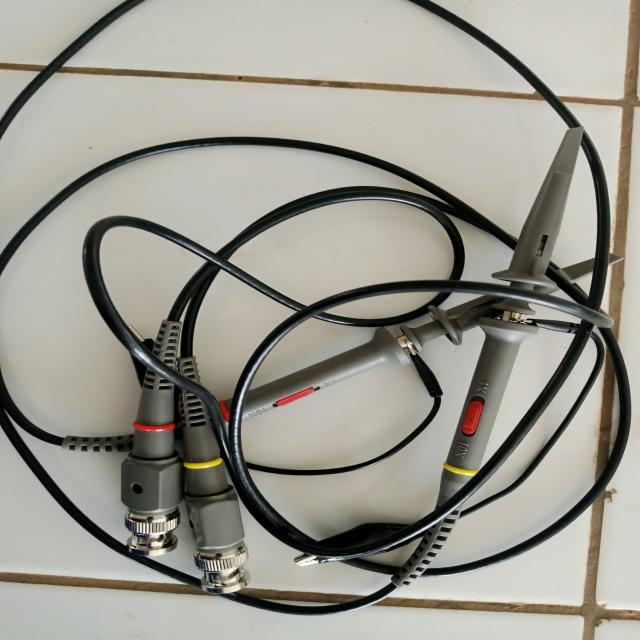CRO Probes: (38, 122, 613, 616)
